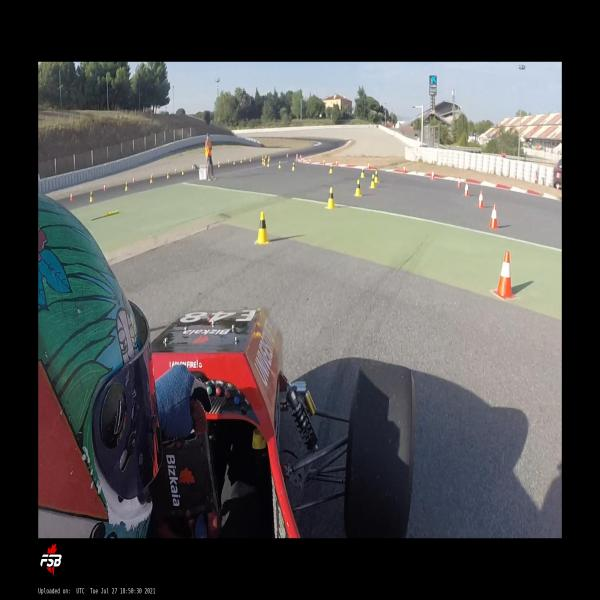orange_cone: (493, 251, 516, 299), (489, 203, 498, 229), (476, 190, 484, 208), (462, 182, 470, 198), (456, 176, 462, 188), (430, 169, 435, 181), (70, 191, 74, 201), (366, 162, 370, 170), (132, 176, 136, 184), (403, 164, 406, 174), (103, 182, 106, 192), (335, 159, 338, 167), (323, 158, 325, 166)
yellow_cone: (254, 211, 270, 245), (325, 186, 336, 210), (354, 179, 362, 197), (88, 190, 94, 202), (370, 175, 375, 189), (374, 170, 379, 183), (360, 167, 365, 178), (124, 181, 129, 191), (329, 164, 333, 174), (291, 162, 295, 171), (278, 160, 282, 168), (166, 171, 170, 179), (149, 176, 153, 183), (267, 160, 270, 168), (181, 167, 184, 175), (263, 158, 266, 166)
